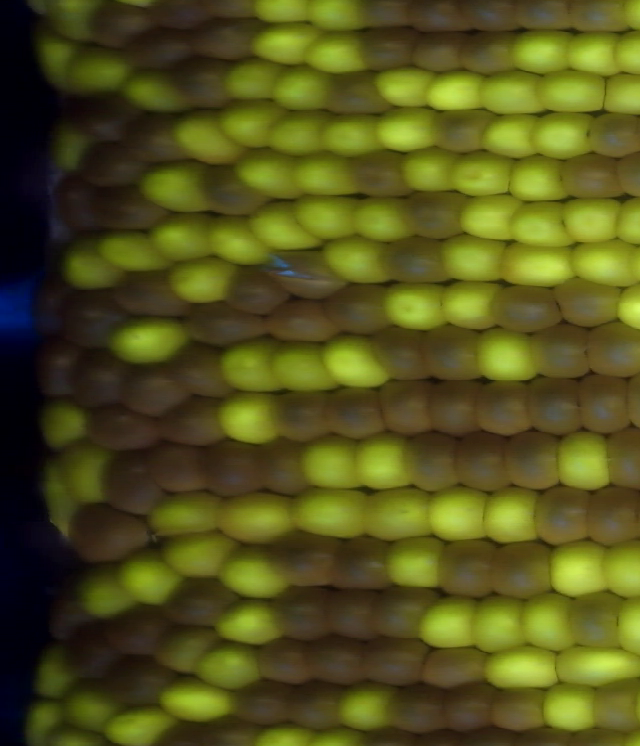fluorescent: (215, 488, 298, 545), (471, 320, 540, 385), (323, 328, 393, 392), (551, 429, 617, 495), (291, 483, 366, 540), (176, 101, 241, 166), (215, 544, 289, 601), (107, 313, 188, 365), (363, 485, 433, 544), (549, 538, 610, 602), (502, 240, 579, 290), (304, 432, 365, 495), (219, 333, 282, 392), (424, 481, 487, 540), (238, 143, 302, 201), (558, 641, 640, 686), (571, 237, 640, 290), (218, 390, 281, 448), (157, 528, 230, 578), (457, 195, 525, 248), (170, 256, 242, 306), (442, 228, 507, 283), (145, 159, 212, 212), (468, 593, 526, 654), (521, 590, 575, 655), (104, 224, 171, 276), (482, 644, 561, 688), (255, 198, 320, 251), (386, 529, 442, 590), (538, 69, 610, 116), (294, 150, 363, 199), (323, 235, 389, 286), (419, 592, 478, 649), (563, 188, 623, 244), (123, 556, 186, 609), (386, 278, 450, 330), (82, 564, 138, 623), (333, 678, 393, 733), (150, 490, 220, 537), (220, 98, 284, 149), (168, 675, 236, 723), (357, 428, 407, 493), (72, 40, 129, 97), (482, 486, 538, 544), (57, 235, 120, 286), (212, 206, 266, 265), (277, 339, 336, 393), (375, 101, 436, 153), (220, 599, 283, 649), (440, 277, 497, 332), (155, 209, 215, 261), (194, 638, 256, 688), (510, 201, 573, 250), (125, 69, 189, 117), (540, 678, 598, 730), (509, 154, 565, 207), (251, 18, 314, 65), (483, 70, 546, 117), (272, 61, 328, 113), (61, 445, 107, 507), (297, 188, 355, 237), (110, 701, 173, 746), (450, 150, 509, 198), (566, 28, 624, 76), (402, 143, 457, 193), (373, 65, 435, 109), (483, 112, 541, 159), (508, 29, 572, 71), (313, 27, 367, 76), (270, 109, 326, 156), (538, 113, 594, 160), (62, 686, 113, 737), (326, 114, 386, 157), (428, 67, 486, 111), (40, 459, 73, 536), (356, 196, 409, 243), (34, 35, 78, 91), (46, 402, 96, 451), (602, 539, 640, 601), (53, 125, 92, 178), (231, 60, 281, 99), (34, 653, 73, 703), (24, 703, 65, 746), (607, 70, 640, 116), (610, 28, 640, 78)
nonfluorescent: (71, 506, 158, 564), (268, 529, 345, 593), (199, 428, 266, 501), (500, 424, 565, 496), (100, 644, 172, 708), (273, 244, 349, 304), (324, 377, 387, 444), (115, 269, 193, 323), (552, 275, 628, 329), (375, 375, 434, 444), (531, 480, 589, 550), (405, 424, 462, 495), (578, 367, 634, 439), (96, 176, 162, 237), (454, 423, 509, 496), (486, 541, 555, 599), (488, 281, 562, 334), (333, 533, 398, 593), (421, 319, 479, 386), (220, 265, 293, 318), (324, 281, 397, 334), (161, 574, 234, 627), (92, 398, 162, 453), (400, 186, 471, 240), (381, 229, 447, 287), (430, 99, 498, 155), (200, 162, 267, 218), (584, 482, 640, 549), (534, 322, 596, 382), (99, 454, 161, 514), (565, 586, 623, 650), (434, 538, 496, 597), (281, 676, 346, 732), (158, 390, 220, 448), (268, 582, 330, 640), (326, 583, 383, 646), (270, 296, 339, 348), (68, 349, 130, 406), (529, 375, 586, 437), (186, 301, 266, 345), (124, 360, 184, 418), (367, 320, 424, 381), (184, 16, 261, 61), (62, 288, 117, 351), (479, 378, 535, 439), (128, 106, 188, 162), (307, 635, 370, 688), (267, 387, 325, 444), (434, 677, 492, 734), (175, 339, 231, 397), (562, 149, 623, 202), (363, 635, 429, 683), (256, 433, 307, 495), (378, 586, 438, 638), (589, 676, 640, 737), (589, 320, 640, 380), (418, 643, 486, 688), (79, 137, 144, 183), (389, 681, 444, 735), (69, 626, 124, 680), (587, 104, 640, 159), (54, 171, 97, 238), (255, 637, 312, 687), (429, 380, 478, 438), (493, 686, 552, 734), (70, 90, 128, 138), (355, 150, 412, 198), (130, 27, 192, 71), (412, 27, 465, 78), (112, 601, 162, 655), (157, 441, 205, 497), (463, 29, 514, 81), (234, 675, 287, 725), (176, 55, 226, 107), (360, 25, 415, 72), (323, 75, 387, 114), (605, 425, 640, 495), (38, 343, 80, 399), (141, 1, 203, 38), (93, 4, 144, 45), (34, 277, 66, 342), (52, 591, 84, 638)
